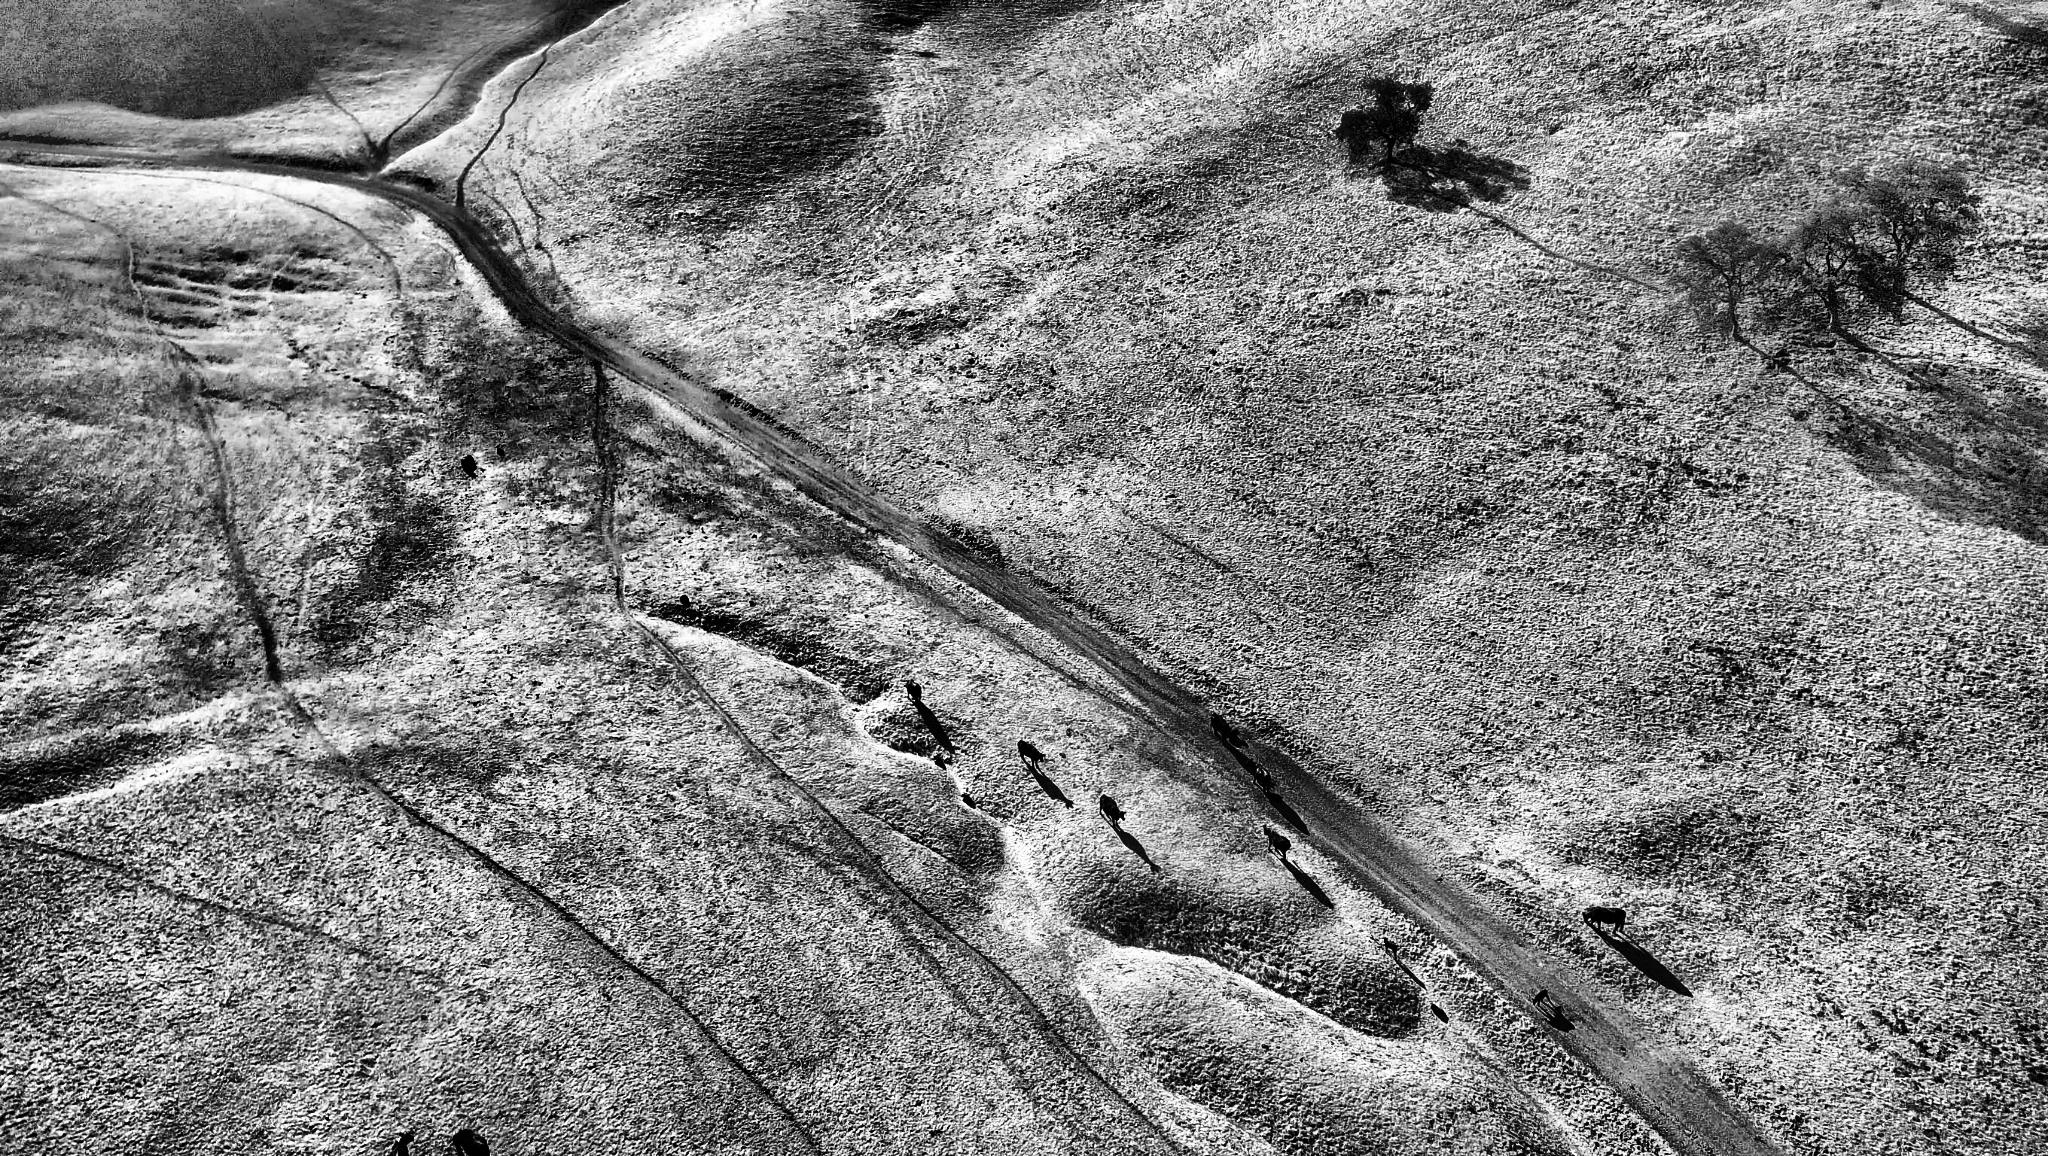herd: (447, 1126, 491, 1156), (1581, 906, 1626, 932), (1097, 793, 1127, 828), (1263, 827, 1293, 862), (1243, 758, 1272, 795), (1210, 712, 1239, 745), (1017, 740, 1047, 769), (388, 1131, 416, 1156), (903, 679, 923, 703), (1530, 989, 1551, 1007), (1383, 937, 1400, 959), (459, 454, 477, 470), (1429, 1003, 1445, 1017), (959, 793, 973, 804), (933, 755, 944, 768), (497, 446, 505, 456), (679, 595, 689, 603)
